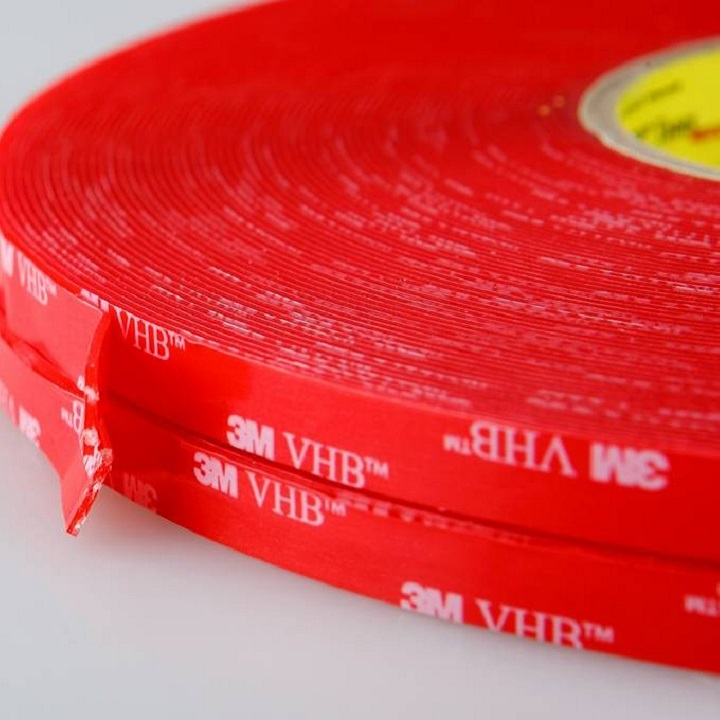3M: (583, 435, 671, 496), (217, 401, 282, 467), (397, 575, 468, 628), (186, 443, 243, 501)
